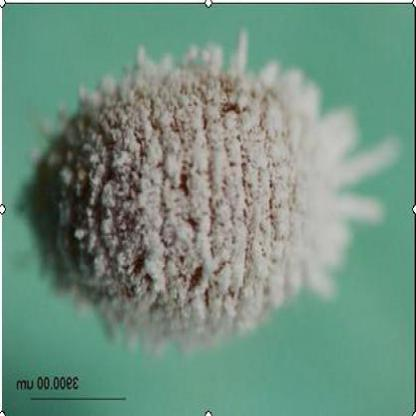mealy bug: (17, 36, 400, 351)
